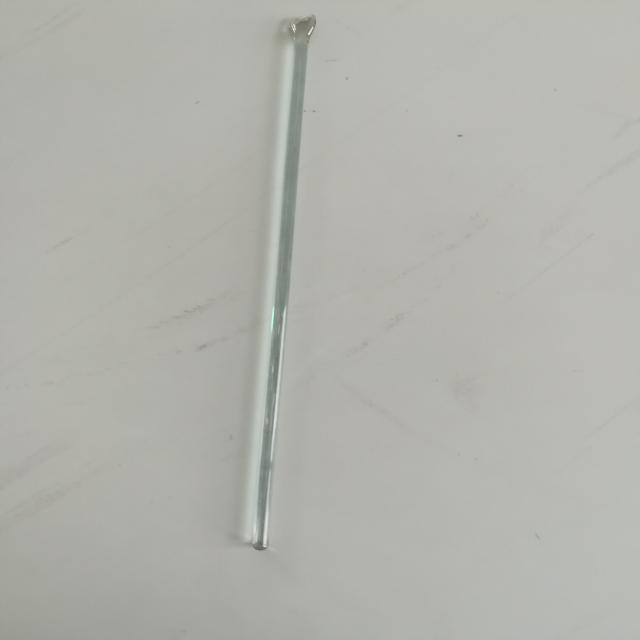Glass_Rod: (160, 0, 385, 576)
